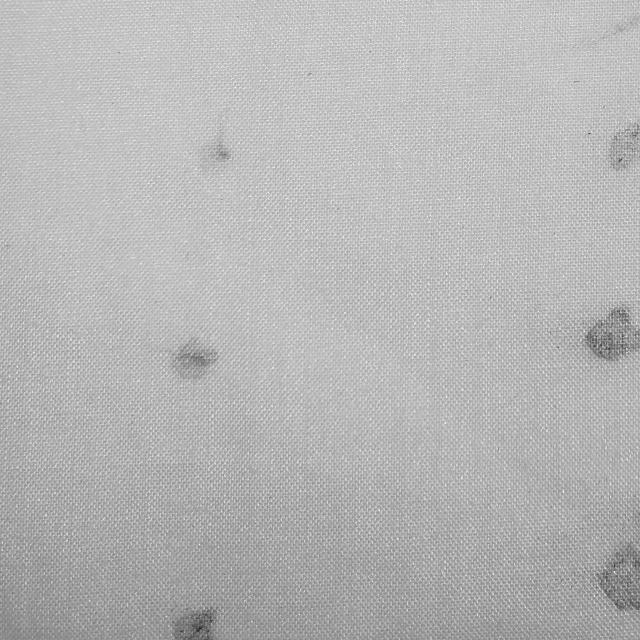Stain: (586, 308, 640, 361), (599, 545, 640, 611), (198, 107, 234, 170), (172, 338, 218, 379), (602, 122, 640, 169), (173, 610, 215, 640)
